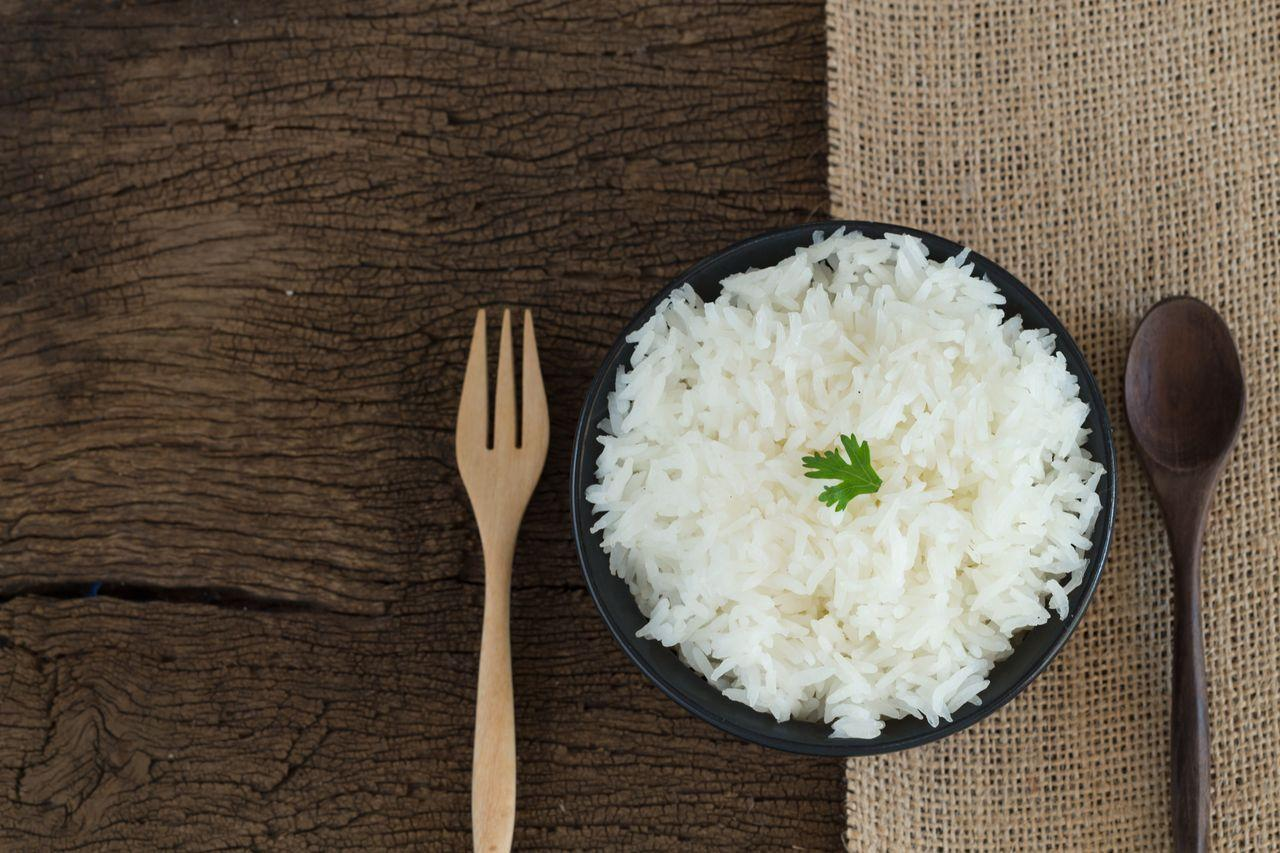rice: (591, 239, 1102, 729)
